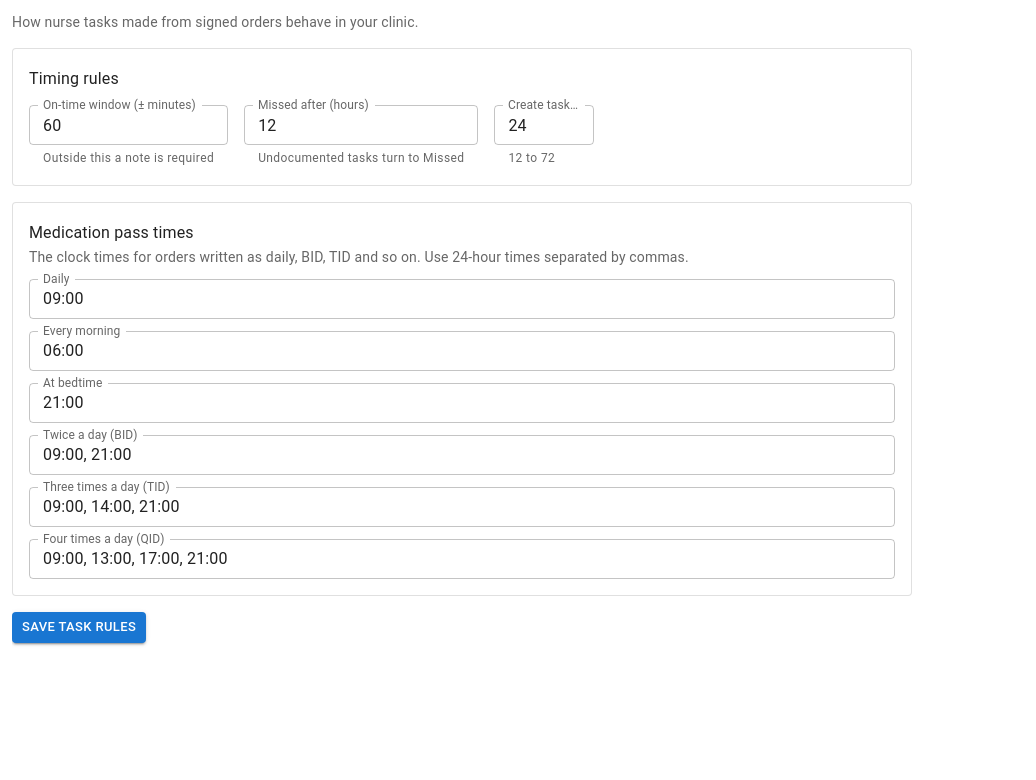
Test: bad numbers and bad times are caught before anything is sent
expect the number field with test id "task-grace" holds "60": met, box [29,105,228,145]
Replace the text in the number field with test id "task-ahead" with "5" at (544, 125), box [494,105,594,145]
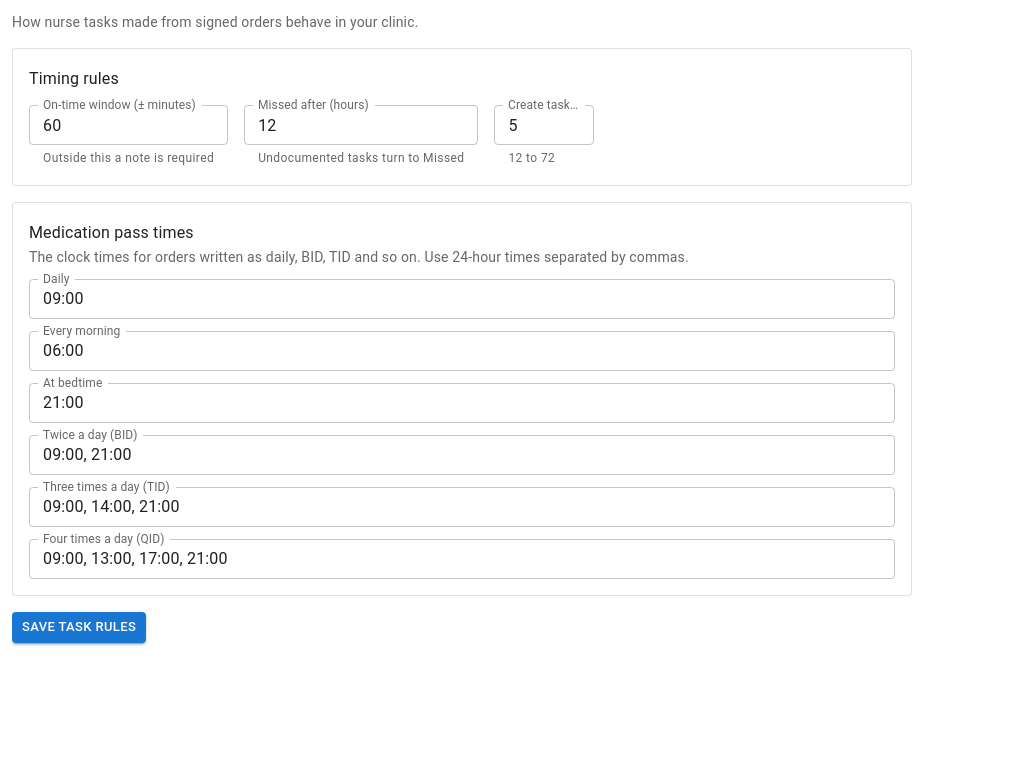
Click the button with test id "task-settings-save".
click(79, 627)  # box [12,612,146,643]
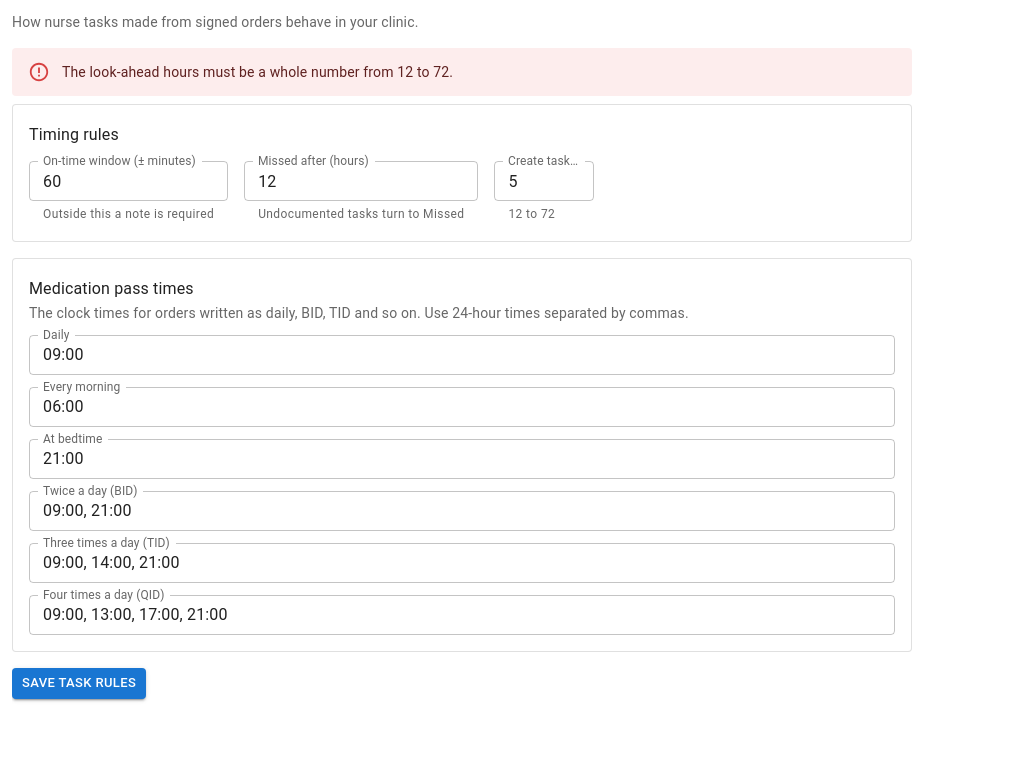
expect the message with test id "task-settings-error" shows "look-ahead hours must be a whole number from 12 to 72": met, box [62,64,453,80]
Replace the text in the number field with test id "task-ahead" with "24" at (544, 181), box [494,161,594,201]
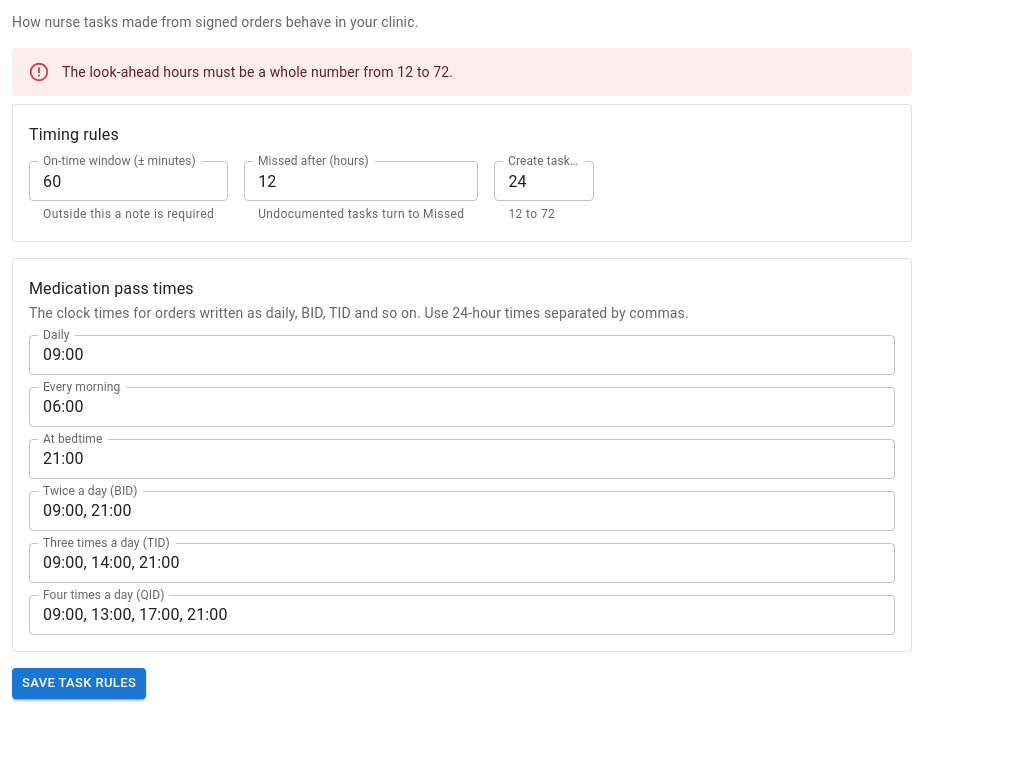
Replace the text in the field with test id "pass-tid" with "9am" at (462, 563), box [29,543,895,583]
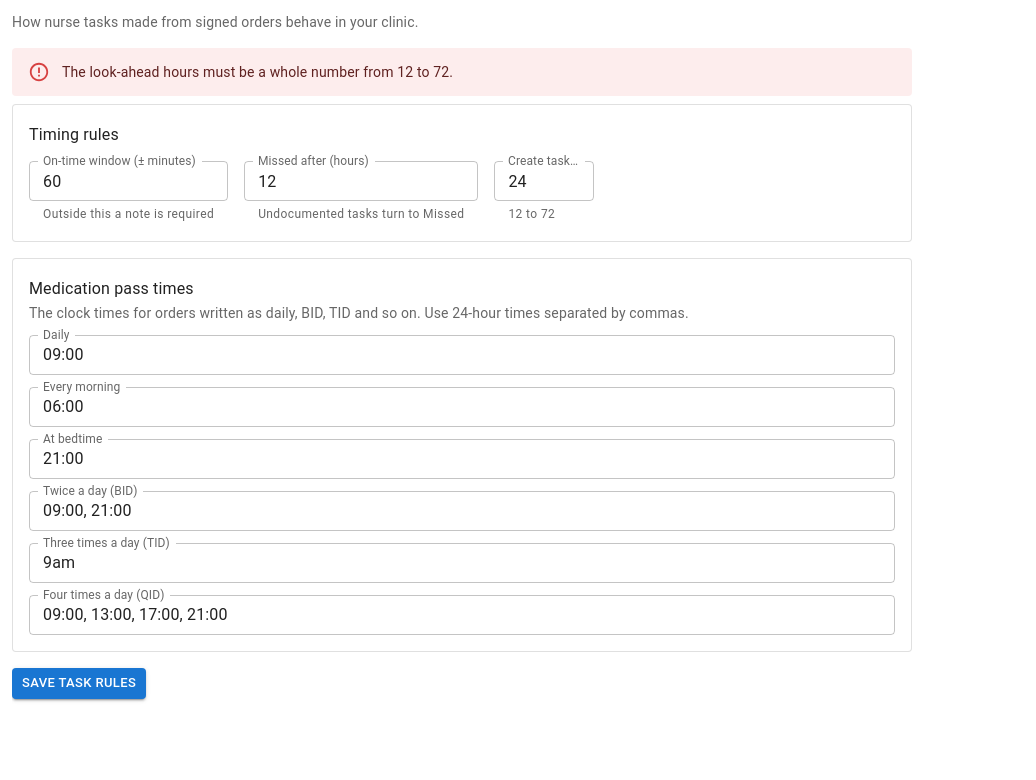
Click the button with test id "task-settings-save".
click(79, 683)  # box [12,668,146,699]
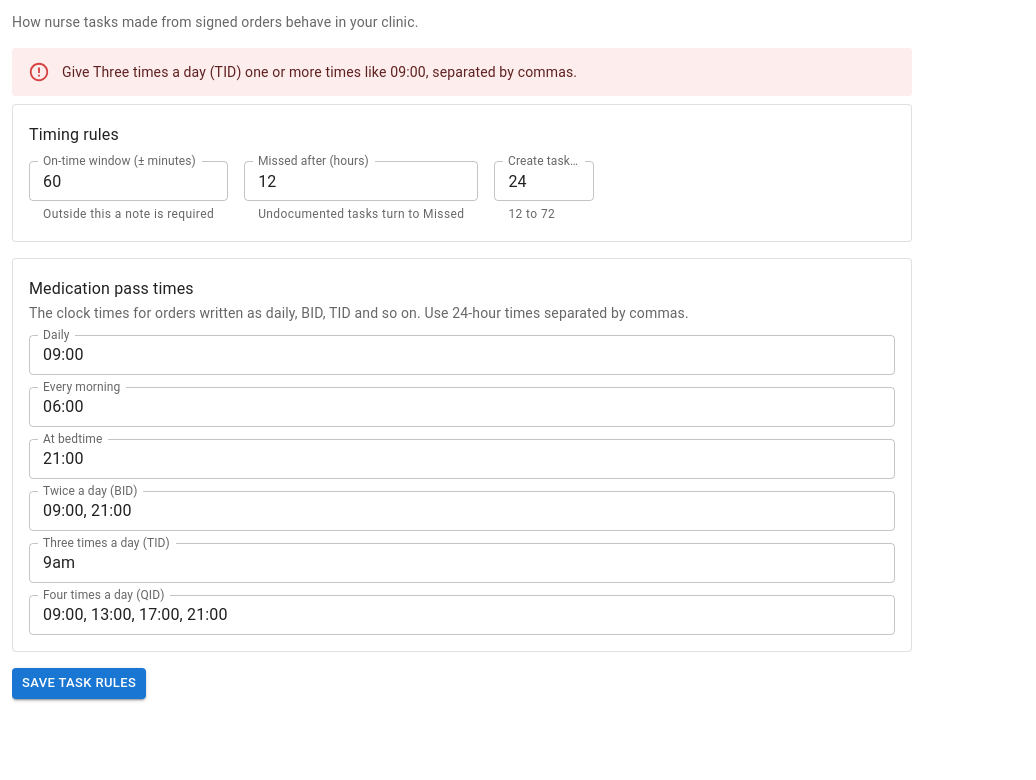
expect the message with test id "task-settings-error" shows "Three times a day (TID)": met, box [62,64,577,80]
